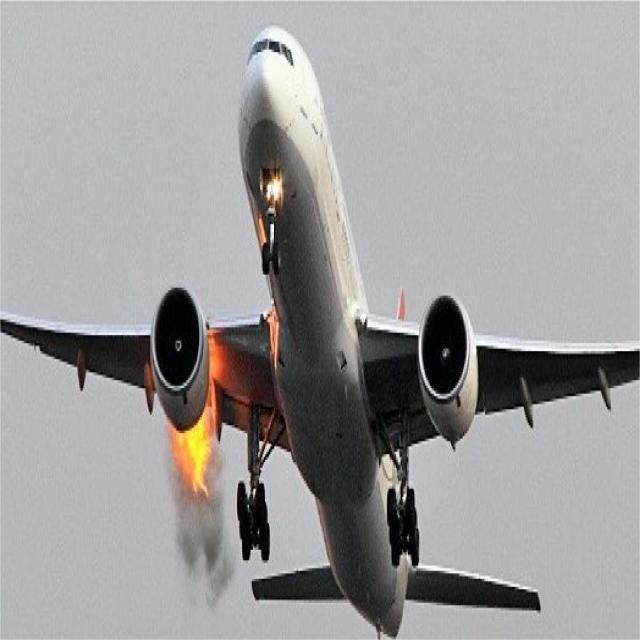Fire: (176, 421, 210, 493)
